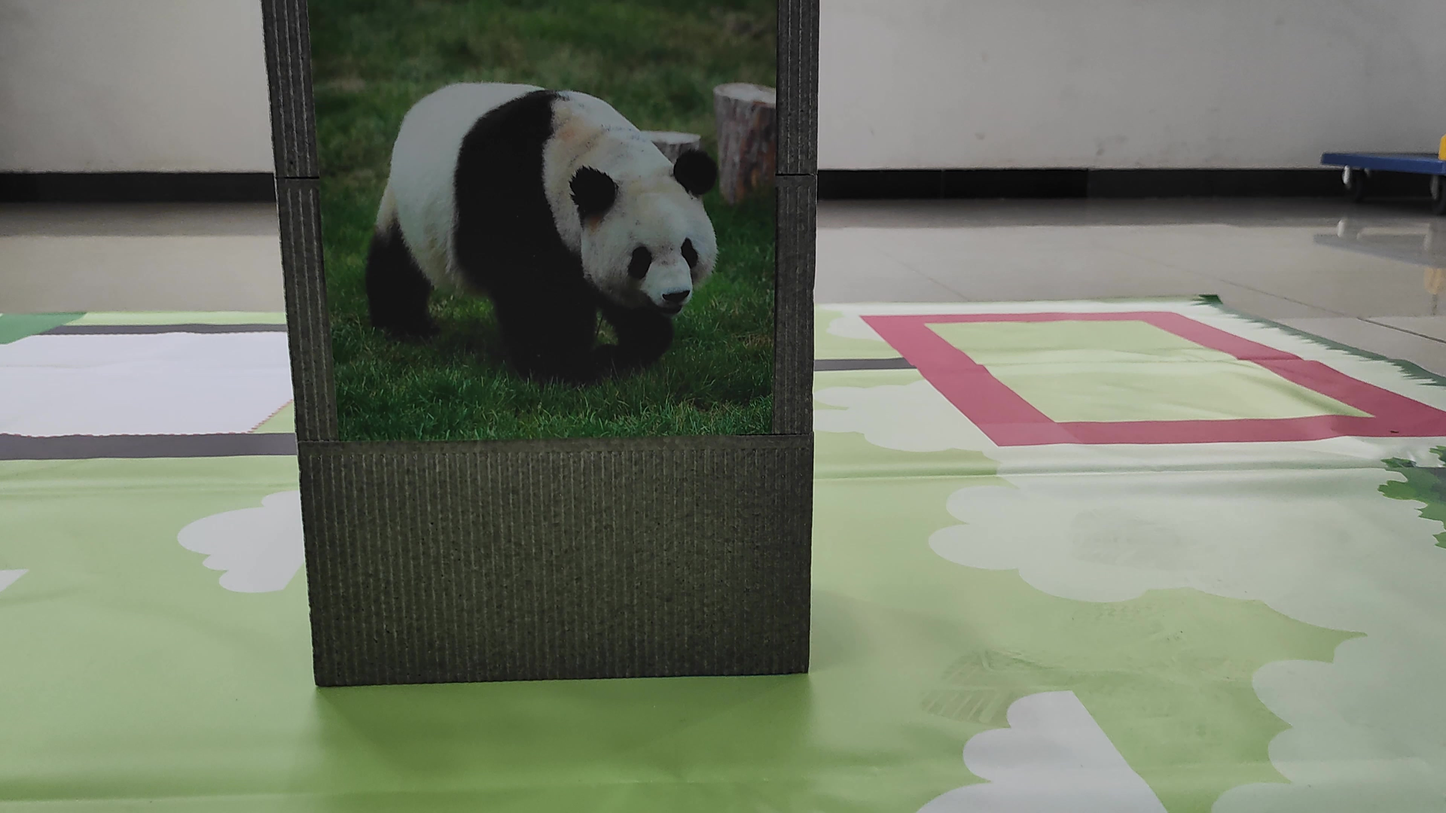panda: (337, 47, 747, 386)
